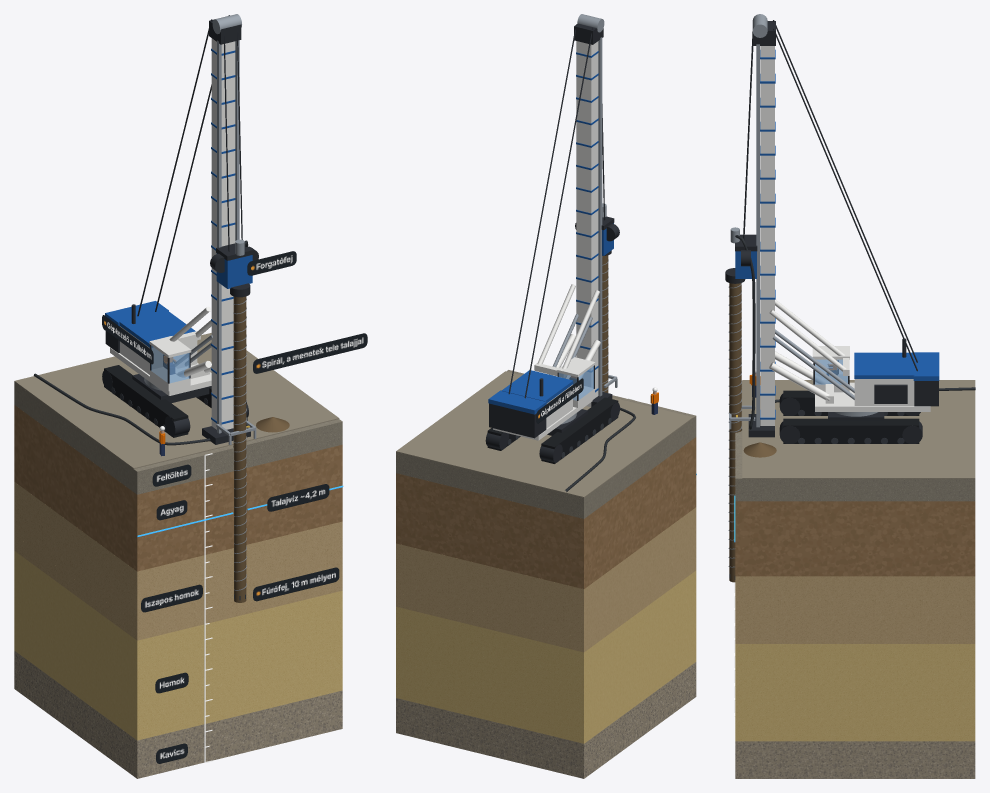
File: cfa-makett-feliratok.glb
3 views of the same model, side by side, from view 1: azimuth 30°, elevation 25°; view 2: azimuth 150°, elevation 25°; view 3: azimuth 270°, elevation 25° (orthographic). The views are drawn at different scales.
Parts seen in each view (by area): view 1: Homok, Agyag (furat), CFA_furogep, Iszapos homok (furat), Munkaszint, Kavics, Feltöltés (furat), Felirat (×6), Iszapos homok, Talaj_a_meneteken, object 15, Melysegi_vonalzo (+2 smaller); view 2: Homok, Agyag (furat), CFA_furogep, Iszapos homok (furat), Munkaszint, Kavics, Feltöltés (furat), Iszapos homok, Talaj_a_meneteken, Felirat; view 3: CFA_furogep, Homok, Agyag (furat), Iszapos homok (furat), Munkaszint, Kavics, Feltöltés (furat), Iszapos homok, Talaj_a_meneteken, Betontomlo, Furocsiga.
Boxes of the visible parts, left/top/right/bottom form: Homok: left=14, top=551, right=342, bottom=740; Agyag (furat): left=14, top=405, right=342, bottom=571; CFA_furogep: left=102, top=14, right=250, bottom=444; Iszapos homok (furat): left=14, top=482, right=342, bottom=625; Munkaszint: left=14, top=333, right=339, bottom=468; Kavics: left=14, top=651, right=342, bottom=778; Feltöltés (furat): left=14, top=382, right=342, bottom=494; Felirat (×6): left=102, top=251, right=367, bottom=612; Iszapos homok: left=14, top=535, right=342, bottom=640; Talaj_a_meneteken: left=233, top=296, right=246, bottom=602; object 15: left=216, top=253, right=252, bottom=288; Melysegi_vonalzo: left=204, top=453, right=212, bottom=762; Homok: left=396, top=570, right=696, bottom=743; Agyag (furat): left=396, top=437, right=696, bottom=588; CFA_furogep: left=485, top=14, right=619, bottom=463; Iszapos homok (furat): left=396, top=507, right=696, bottom=638; Munkaszint: left=396, top=371, right=693, bottom=497; Kavics: left=396, top=662, right=696, bottom=778; Feltöltés (furat): left=396, top=370, right=696, bottom=518; Iszapos homok: left=396, top=556, right=696, bottom=652; Talaj_a_meneteken: left=602, top=255, right=608, bottom=392; Felirat: left=536, top=378, right=583, bottom=423; CFA_furogep: left=743, top=14, right=939, bottom=443; Homok: left=735, top=644, right=975, bottom=741; Agyag (furat): left=735, top=501, right=975, bottom=576; Iszapos homok (furat): left=735, top=576, right=975, bottom=628; Munkaszint: left=742, top=380, right=975, bottom=478; Kavics: left=735, top=741, right=975, bottom=778; Feltöltés (furat): left=735, top=381, right=975, bottom=501; Iszapos homok: left=735, top=629, right=975, bottom=643; Talaj_a_meneteken: left=729, top=283, right=741, bottom=582; Betontomlo: left=735, top=235, right=975, bottom=429; Furocsiga: left=728, top=283, right=741, bottom=579.
Bounding box in the file's own units: 0.2604 × 0.7896 × 0.2518.
39 materials, 15 textured.
